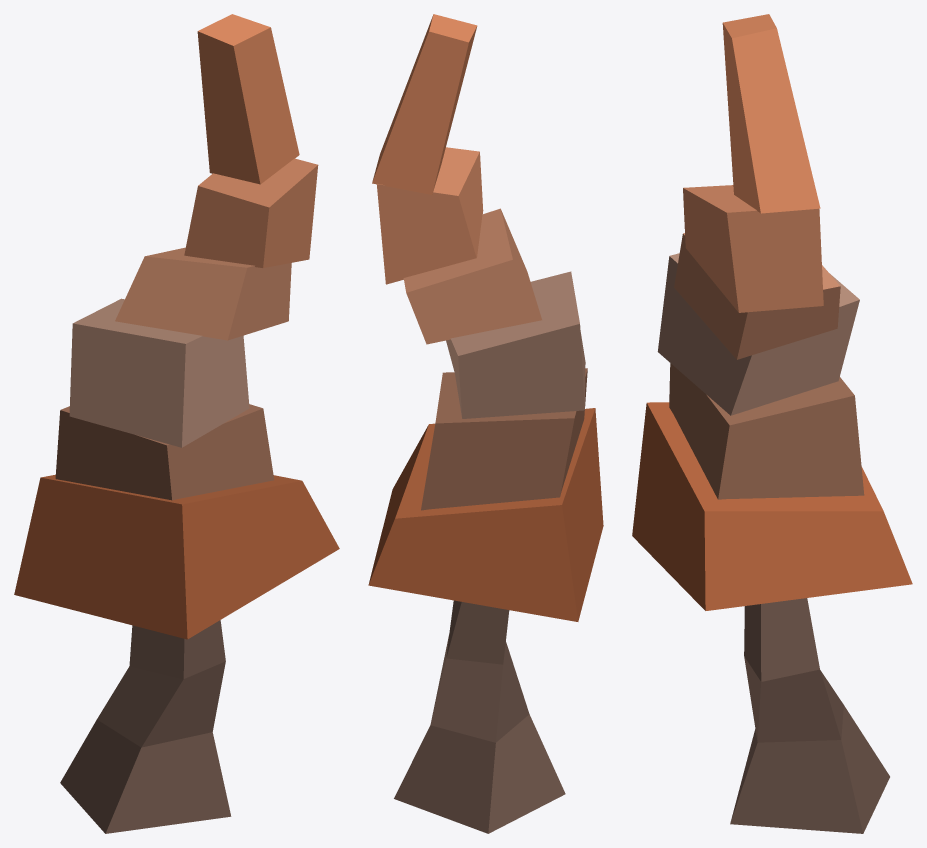
The model's file is RAS_Tree04.fbx.
3 renders of one model, left to right at view 1: azimuth 30°, elevation 25°; view 2: azimuth 150°, elevation 25°; view 3: azimuth 270°, elevation 25°, orthographic. The views are drawn at different scales.
Parts seen in each view (by area): view 1: RAS_Tree04; view 2: RAS_Tree04; view 3: RAS_Tree04.
Part boxes in pixels (box(x1,y1,x2,y2)): RAS_Tree04: box(14, 14, 339, 833); RAS_Tree04: box(368, 14, 603, 833); RAS_Tree04: box(632, 14, 912, 833).
Size of the model in its own units: 82.91 by 237 by 74.57.
1 material, 1 textured.
